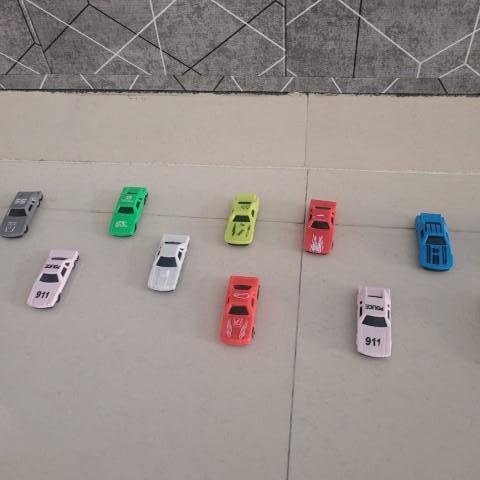car: (26, 247, 83, 309), (351, 283, 395, 360), (218, 272, 262, 346), (413, 209, 458, 274), (146, 231, 193, 293), (301, 196, 338, 256), (108, 185, 150, 235)
